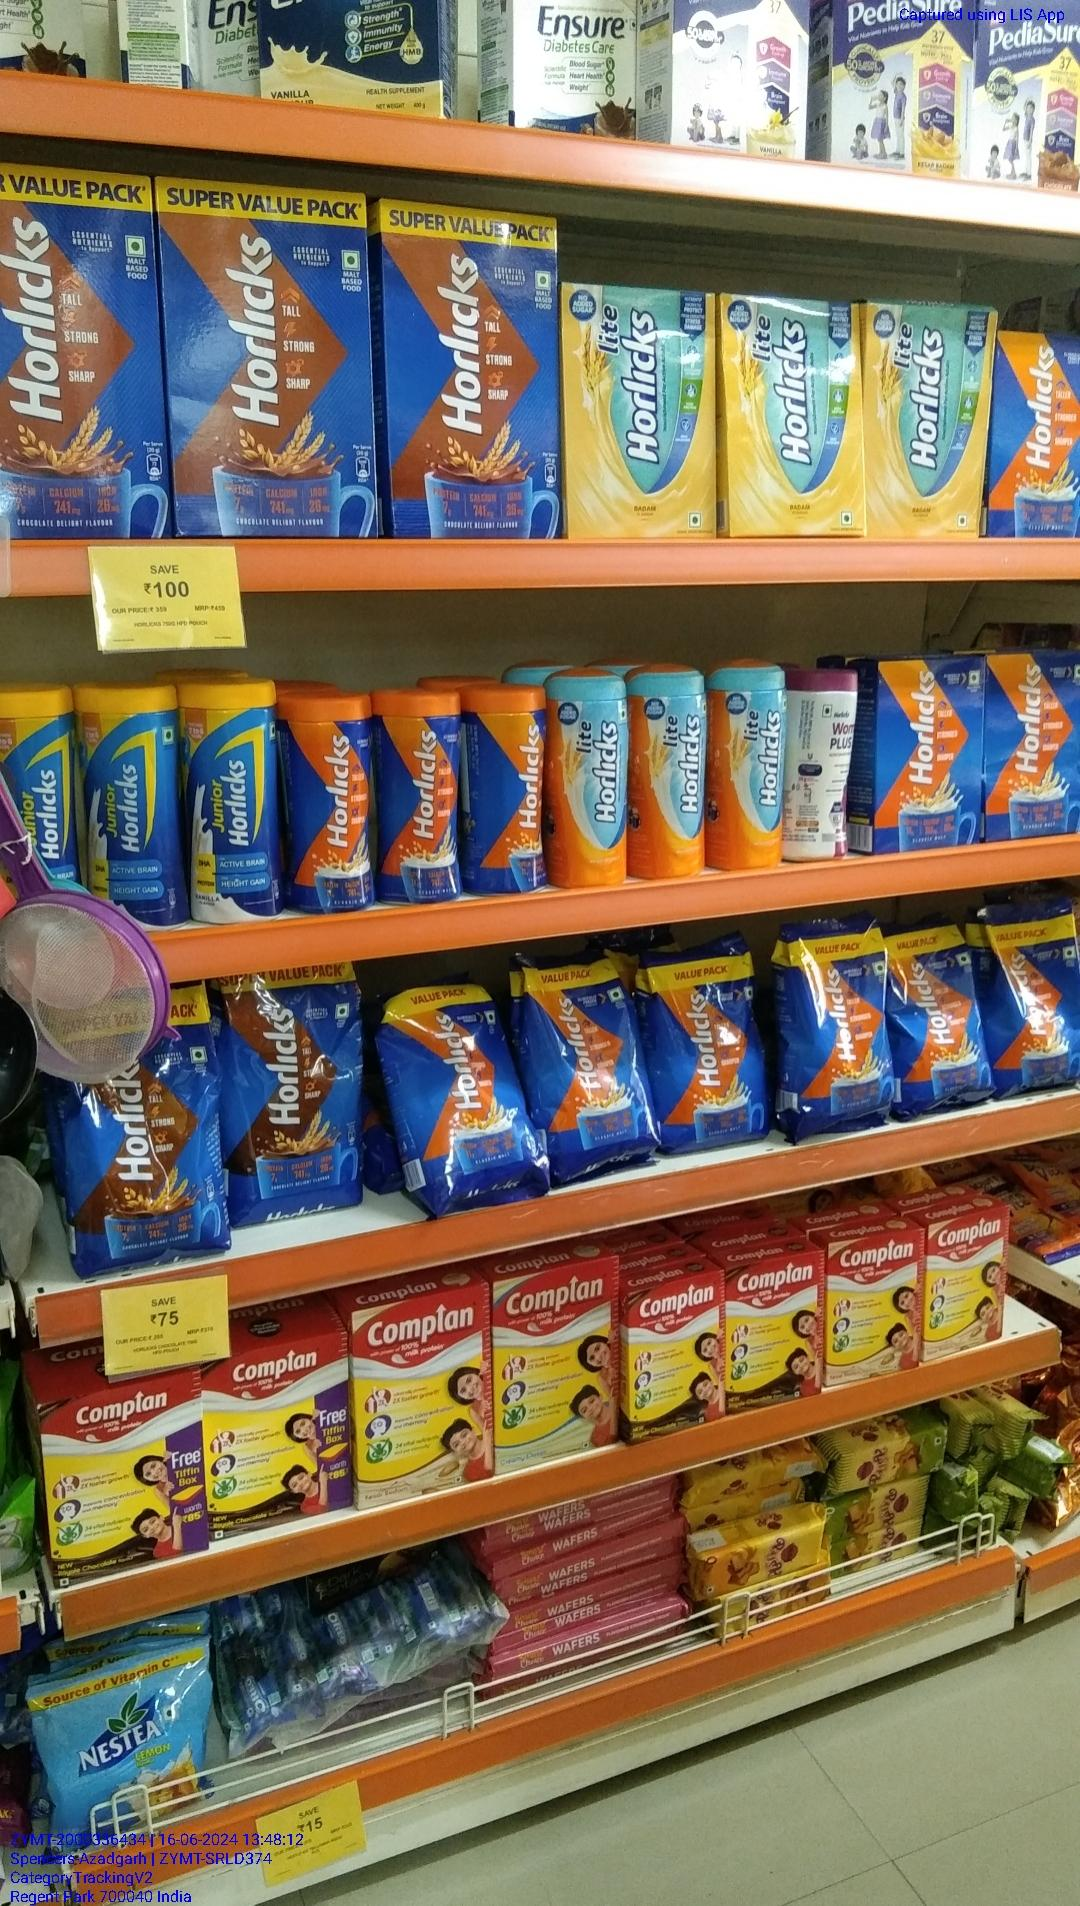HORLICKS_JUNIOR_VANILLA_500_GM_JAR: (199, 673, 278, 924), (96, 678, 175, 916), (0, 685, 76, 907)
HORLICKS_LITE_REGULAR_MALT_500_GM_JAR: (549, 664, 631, 886), (711, 661, 785, 860), (639, 669, 708, 881)
PEDIASURE_CHOCOLATE_500_G_PACK: (963, 0, 1080, 186)
PEDIASURE_VANILLA_500_G_PACK: (833, 0, 970, 168)
